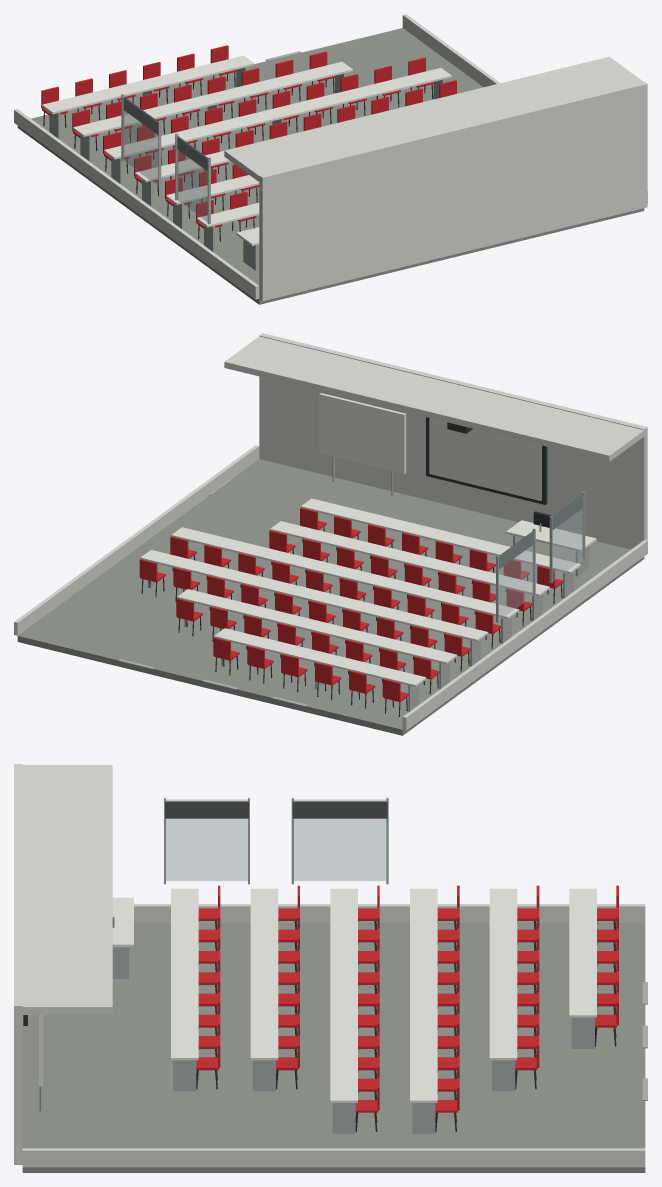
Rendered from ckk-107-interior-94c1d92da3be.glb.
The picture shows the model from 3 angles, top to bottom: view 1: azimuth 30°, elevation 25°; view 2: azimuth 150°, elevation 25°; view 3: azimuth 270°, elevation 25°; orthographic projection. The views are drawn at different scales.
Visible parts, largest first — view 1: ckk-107; view 2: ckk-107; view 3: ckk-107.
Boxes of the visible parts, box(x1,y1,x2,y2) form: ckk-107: box(14, 14, 647, 304); ckk-107: box(14, 333, 647, 735); ckk-107: box(14, 764, 647, 1172).
Size of the model in its own units: 10.78 by 3.4 by 11.71.
